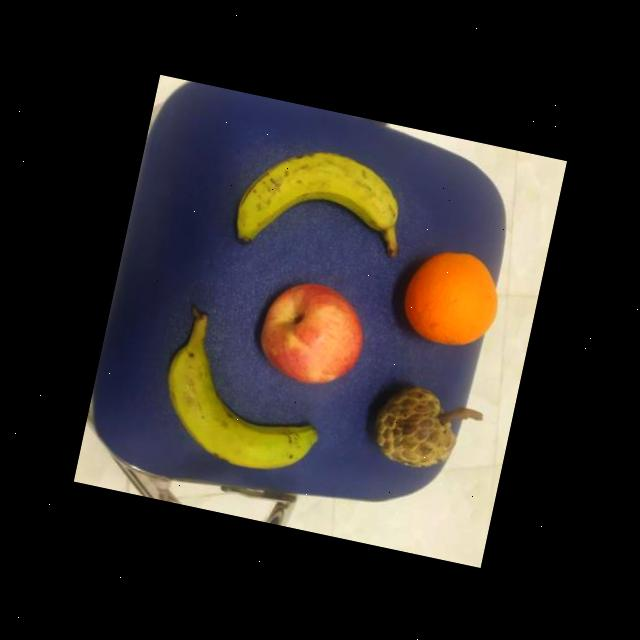Sakya fruit: (369, 379, 464, 474)
apple: (244, 262, 377, 398)
banana: (150, 306, 338, 482), (230, 134, 416, 278)
orange: (393, 241, 508, 355)
